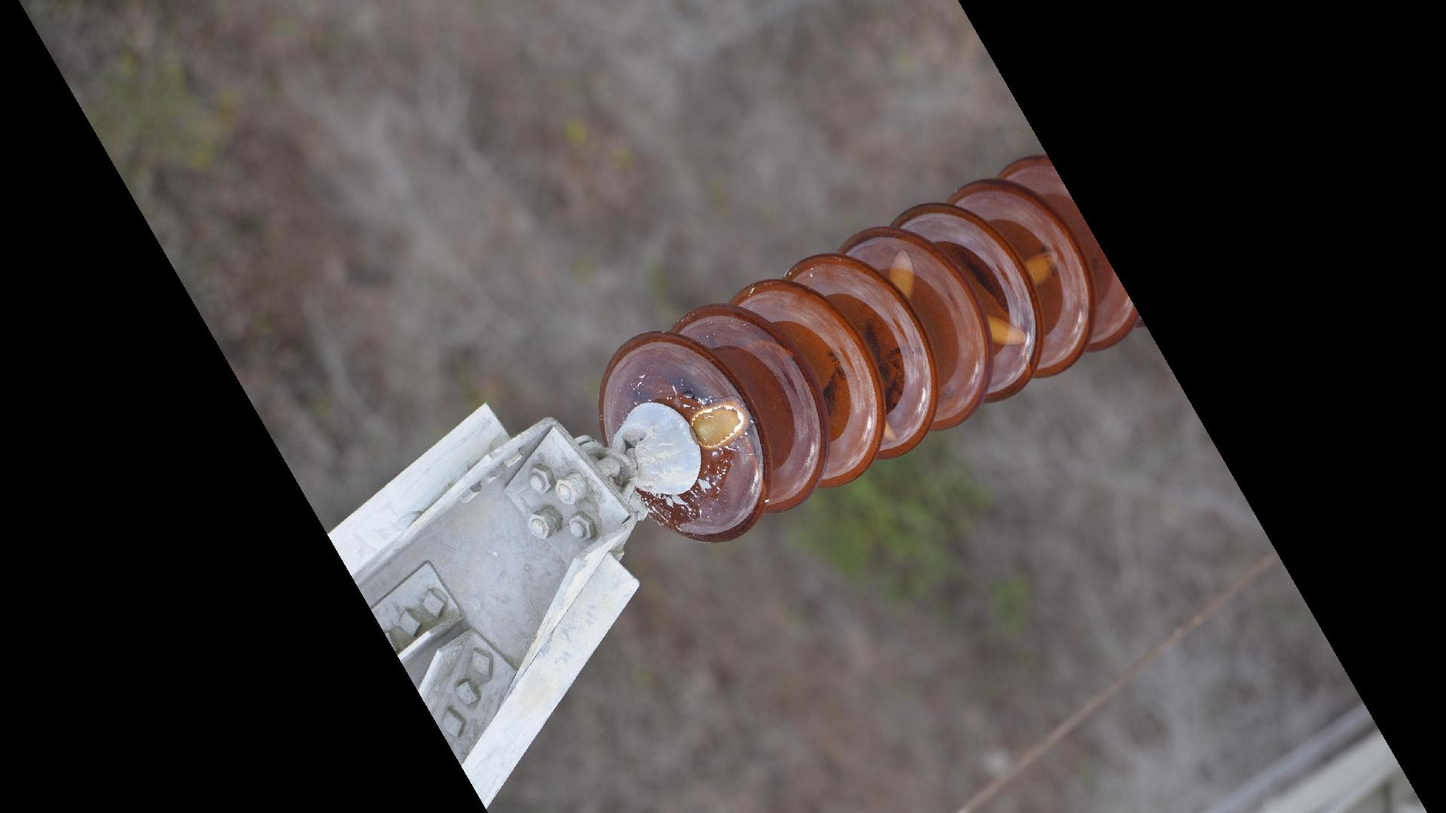insulator: (588, 147, 1146, 548)
insulator_flashover: (688, 394, 752, 453), (984, 312, 1030, 349), (887, 248, 918, 302), (1022, 247, 1061, 287)
